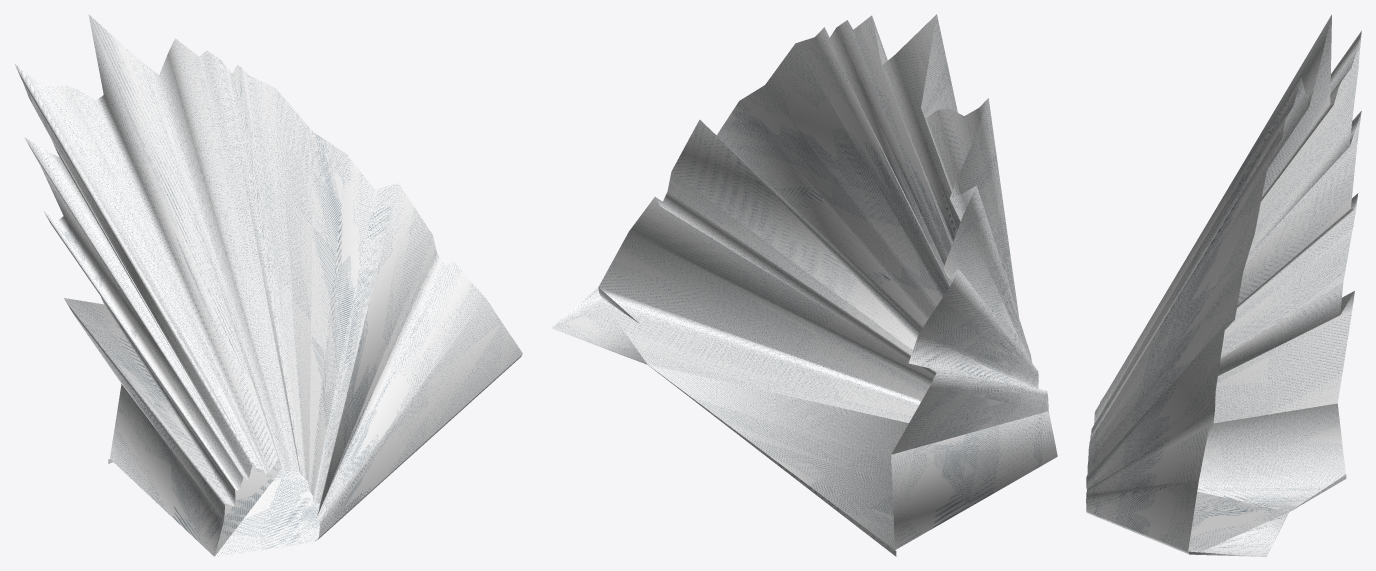
File: cave-exit.dae
3 views of the same model, side by side, from view 1: azimuth 30°, elevation 25°; view 2: azimuth 150°, elevation 25°; view 3: azimuth 270°, elevation 25° (orthographic). The views are drawn at different scales.
Parts seen in each view (by area): view 1: SketchUp; view 2: SketchUp; view 3: SketchUp.
Boxes of the visible parts, x1,y1,x2,y2 form: SketchUp: [14, 14, 522, 556]; SketchUp: [551, 14, 1057, 556]; SketchUp: [1086, 14, 1361, 556].
Bounding box in the file's own units: 310 × 180 × 326.
